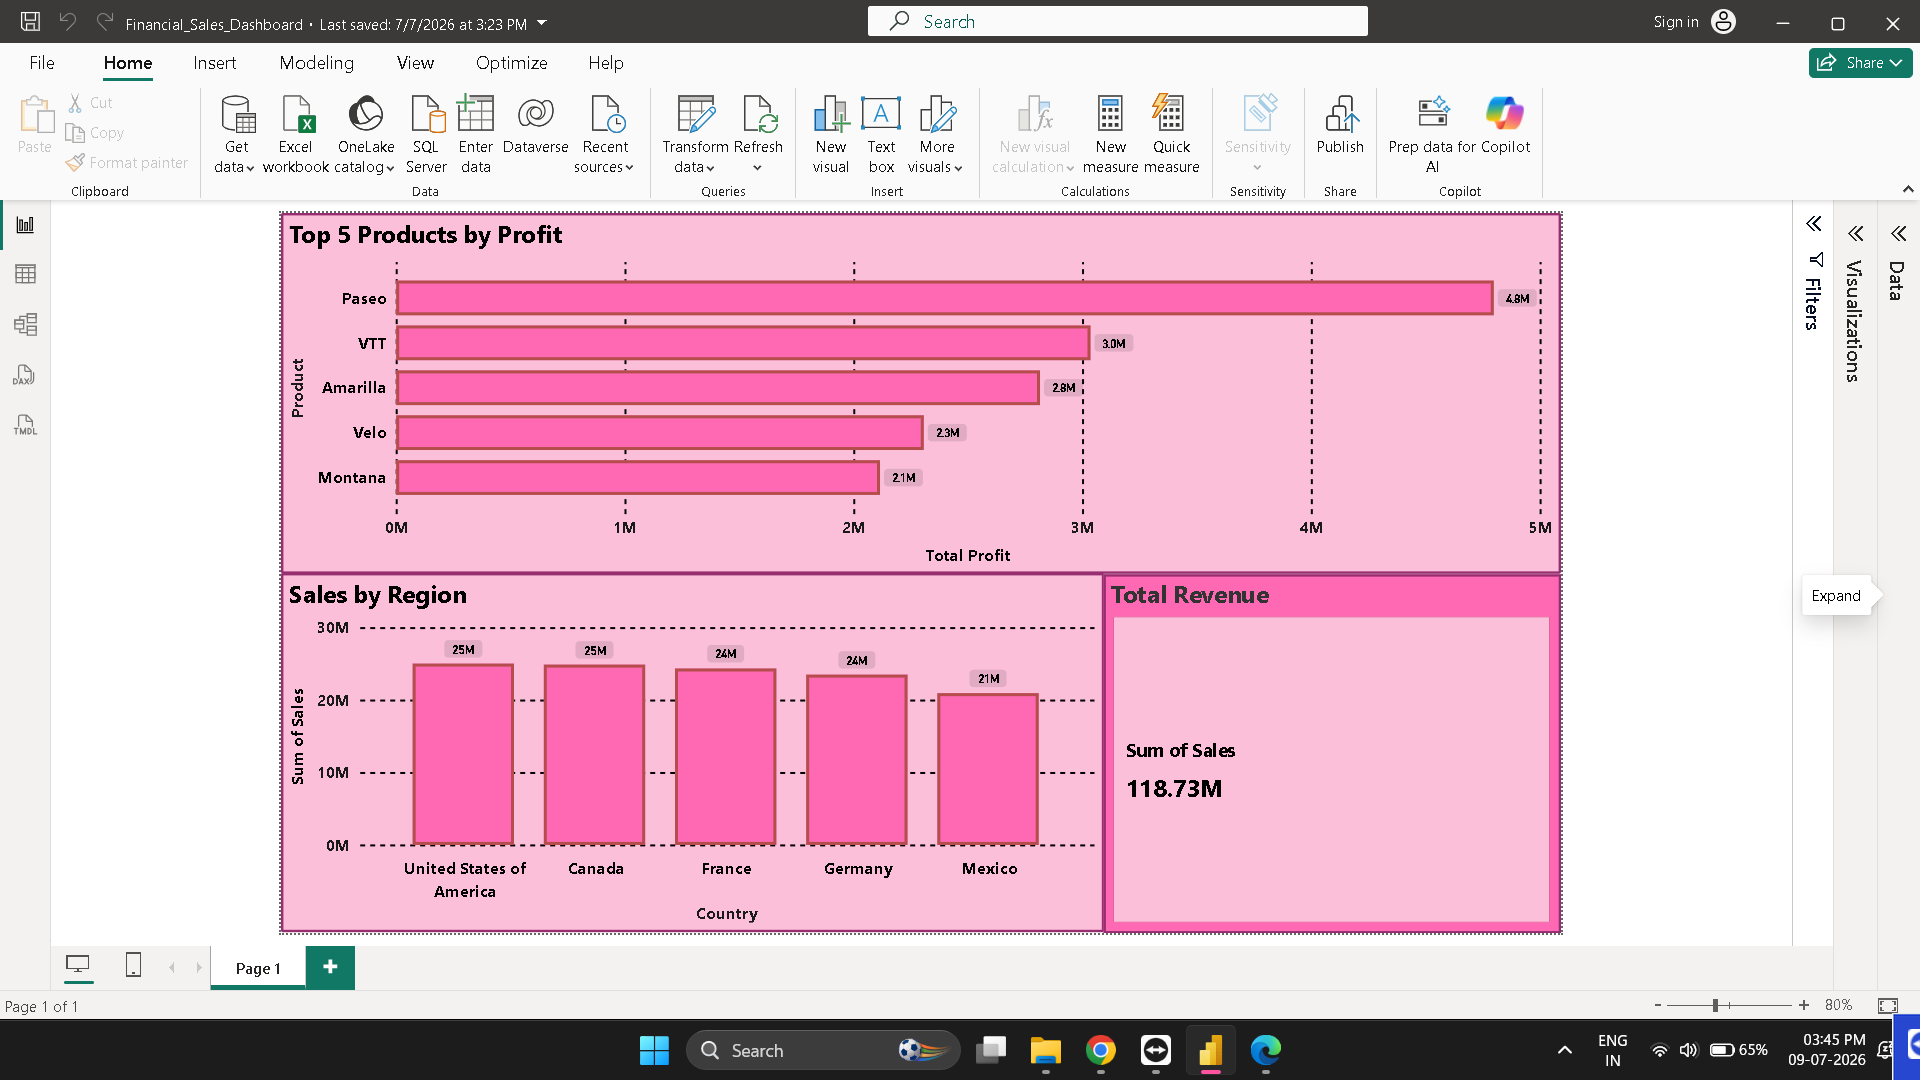

The page's visual inventory and layout, read from the dashboard file:
{"tool":"powerbi","page":{"name":"Page 1","canvas":[1280,720],"ordinal":0},"visuals":[{"type":"clusteredColumnChart","title":"Sales by Region","fields":{"Category":["Sheet1.Country"],"Y":["Sum(Sheet1. Sales)"]},"box":[0,359.5,823,359.5],"z":0},{"type":"cardVisual","title":"Total Revenue","fields":{"Data":["Sum(Sheet1. Sales)"]},"box":[823,360.7,457.3,359.5],"z":1000},{"type":"barChart","title":"Top 5 Products by Profit","fields":{"Category":["Sheet1.Product"],"Y":["Sheet1.Total Profit"]},"box":[0,0,1280.3,360.7],"z":2000}]}

Visuals, with their boxes on the page's 1280x720 design canvas (x1, y1, x2, y2). These are canvas units, not pixel positions in the 1920x1080 screenshot, which may show the page scaled, cropped or inside an application window:
"Sales by Region" clusteredColumnChart: 0:360:823:719
"Total Revenue" cardVisual: 823:361:1280:720
"Top 5 Products by Profit" barChart: 0:0:1280:361
